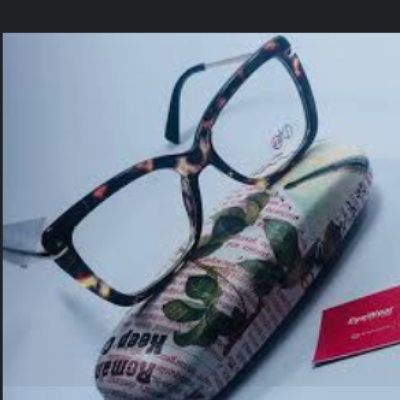glasses: (10, 34, 325, 309)
